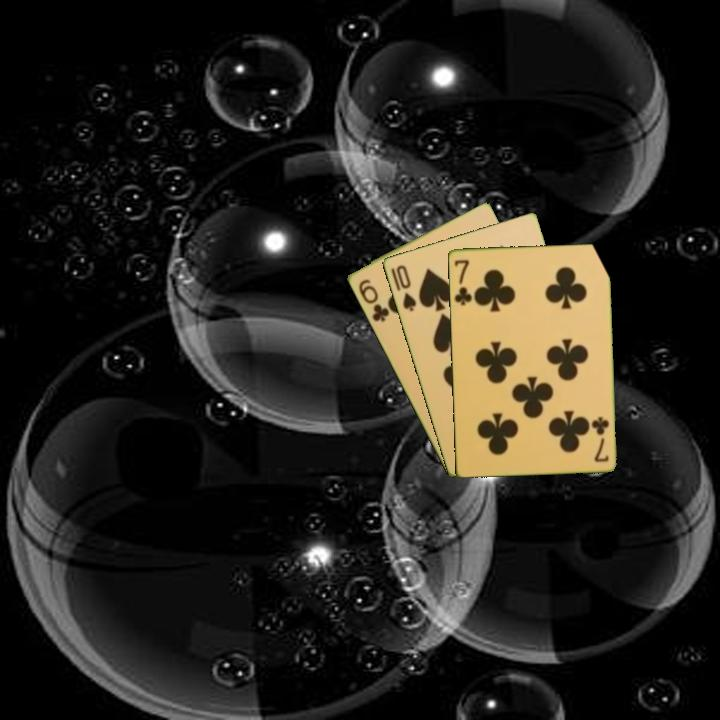10s: (392, 261, 419, 314)
6c: (355, 275, 392, 325)
7c: (450, 256, 475, 308), (589, 413, 612, 464)
